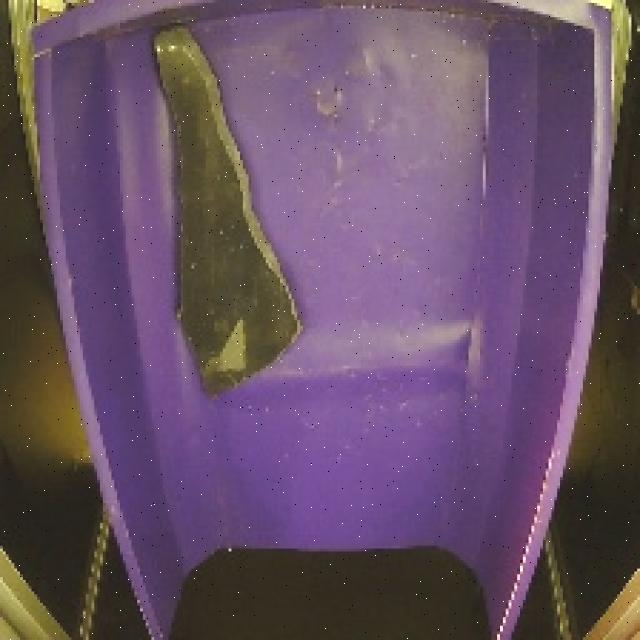china: (139, 14, 313, 415)
